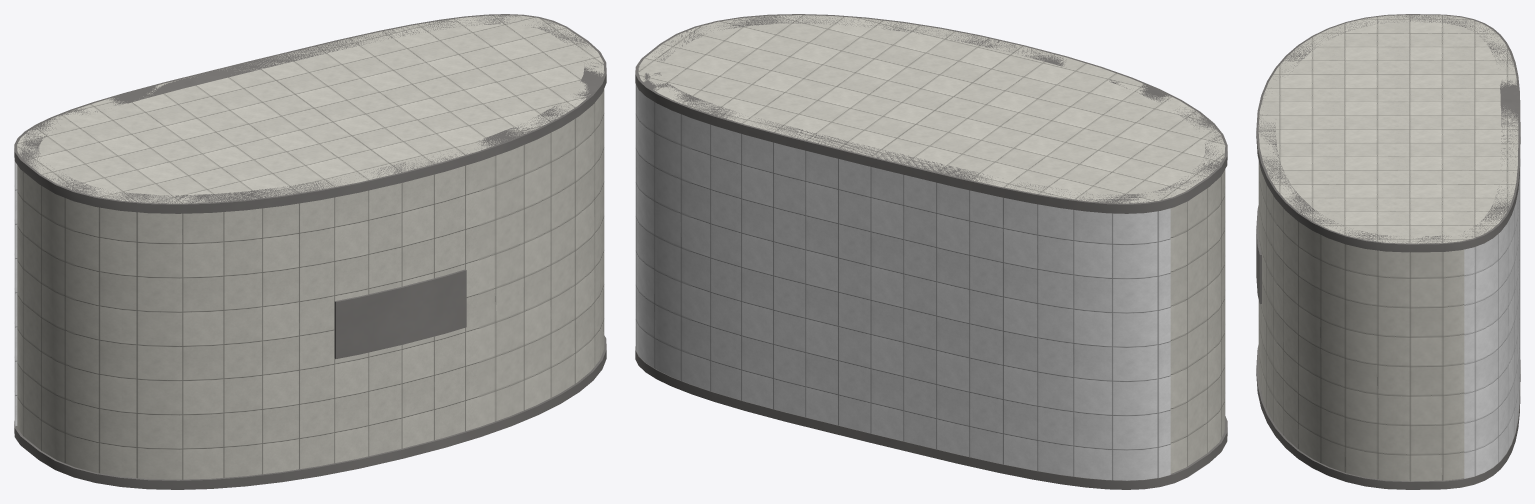
The model's file is aero00_mk2_fuselage_tank_125.glb.
3 renders of one model, left to right at view 1: azimuth 30°, elevation 25°; view 2: azimuth 150°, elevation 25°; view 3: azimuth 270°, elevation 25°, orthographic. The views are drawn at different scales.
Parts seen in each view (by area): view 1: fuselage, end_frames, fill_panel, belly_tiles; view 2: belly_tiles, fuselage, end_frames; view 3: fuselage, belly_tiles, end_frames, fill_panel.
Part boxes in pixels (left/top/right/bottom): fuselage: left=17, top=15, right=604, bottom=479; end_frames: left=14, top=14, right=606, bottom=489; fill_panel: left=334, top=269, right=466, bottom=358; belly_tiles: left=14, top=161, right=17, bottom=426; belly_tiles: left=635, top=84, right=1170, bottom=480; fuselage: left=638, top=15, right=1225, bottom=473; end_frames: left=635, top=14, right=1227, bottom=489; fuselage: left=1258, top=15, right=1518, bottom=481; belly_tiles: left=1464, top=167, right=1520, bottom=478; end_frames: left=1256, top=14, right=1520, bottom=489; fill_panel: left=1256, top=205, right=1261, bottom=303.
Size of the model in its own units: 2.52 by 1.25 by 1.22.
3 materials, 3 textured.
